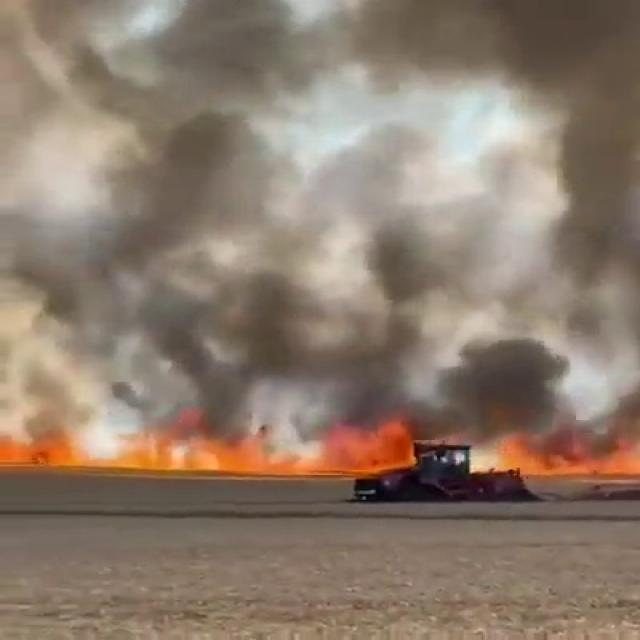Fire: (0, 422, 416, 479), (501, 451, 640, 476)
Smoke: (0, 0, 622, 436)
